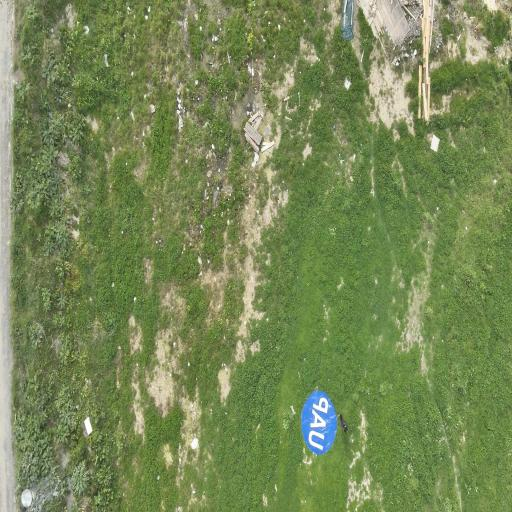UAP: (301, 391, 336, 454)
person: (338, 414, 346, 432)
